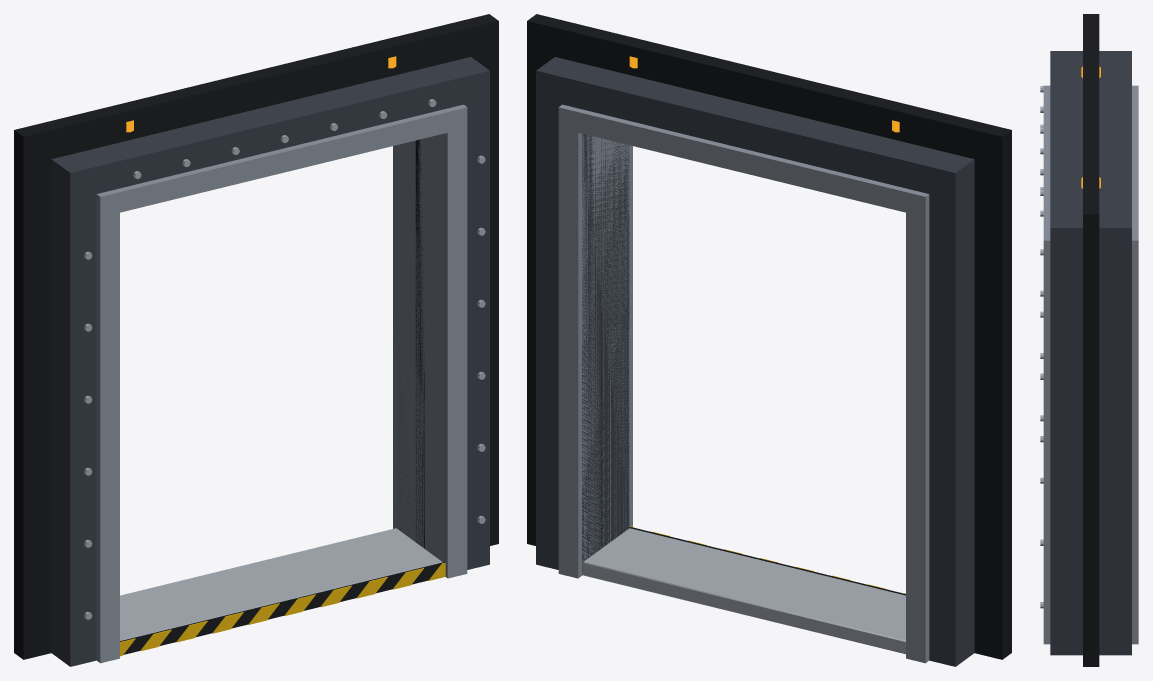
File: doorframe_deep_bulkhead.glb
The picture shows the model from 3 angles, left to right: view 1: azimuth 30°, elevation 25°; view 2: azimuth 150°, elevation 25°; view 3: azimuth 270°, elevation 25°; orthographic projection. The views are drawn at different scales.
Parts seen in each view (by area): view 1: doorframe_deep_bulkhead; view 2: doorframe_deep_bulkhead; view 3: doorframe_deep_bulkhead.
Part boxes in pixels (x1,y1,x2,y2): doorframe_deep_bulkhead: (14, 14, 498, 666); doorframe_deep_bulkhead: (527, 14, 1011, 666); doorframe_deep_bulkhead: (1040, 14, 1138, 666).
Bounding box in the file's own units: 2.9 × 3.05 × 0.6.
